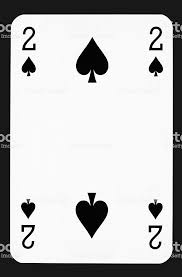two of spades: (11, 15, 172, 263)
